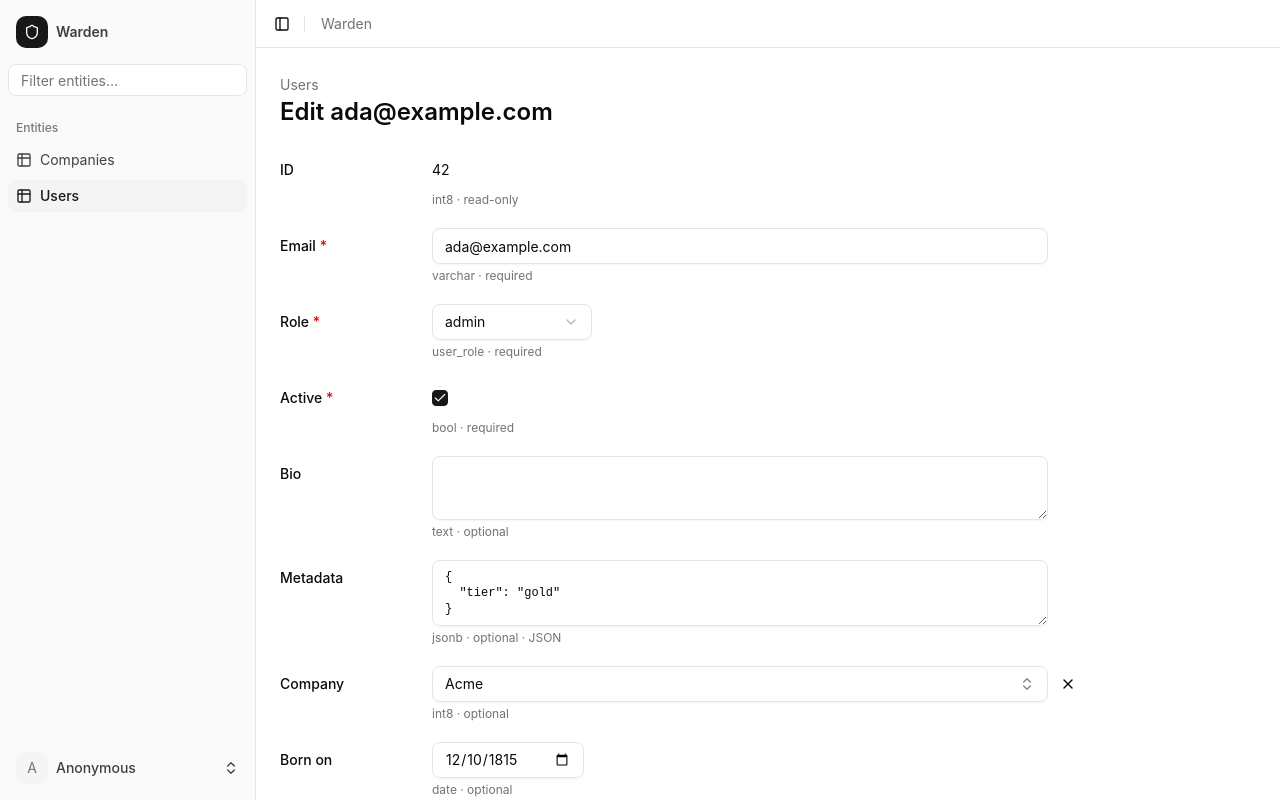
Test: when config requires a reason › shows a server rejection for a missing reason on the reason field
This screenshot has width=1280, height=800.
Type "x" into the text box labelled "Bio" at (740, 488), box [432,456,1048,520]
(page scrolled)
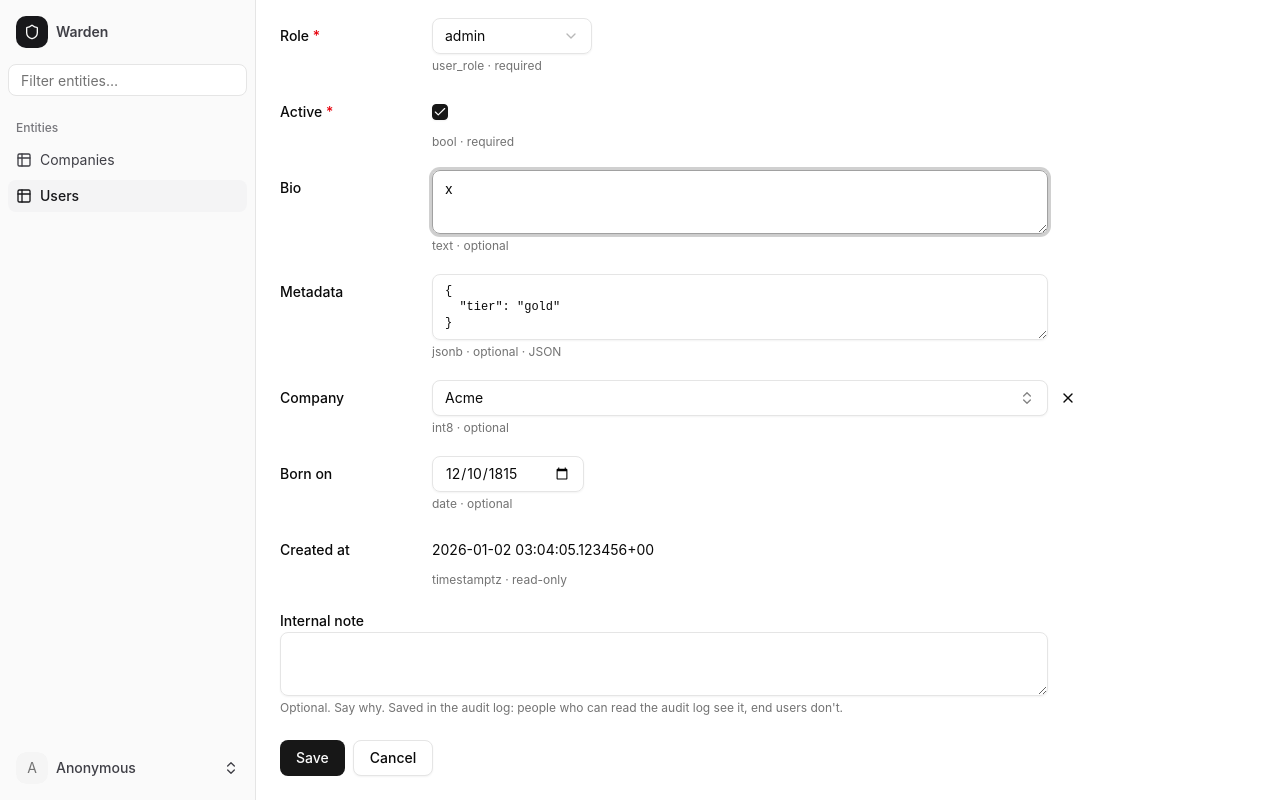
Click the button "Save" at (312, 758), box [280,740,345,776]
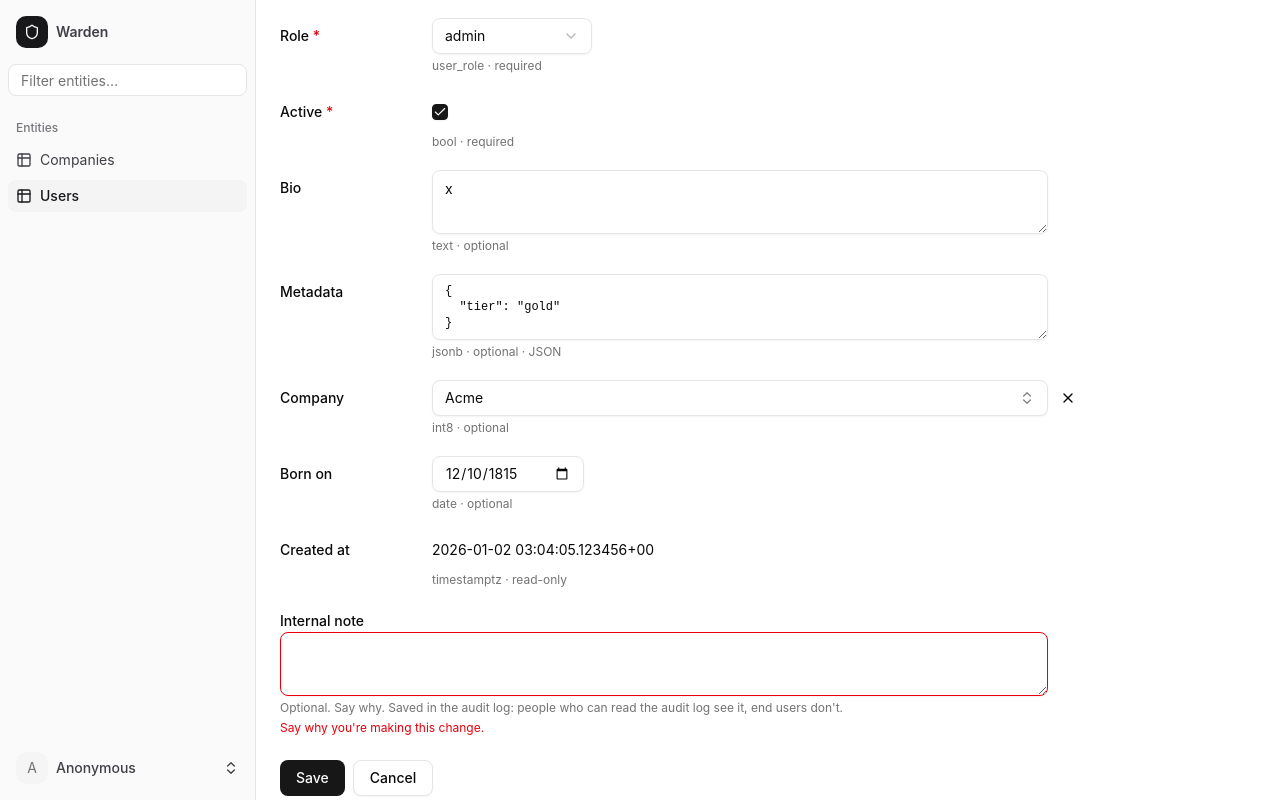
Check: the text "Say why you're making this change." is shown, box [280,720,484,735]
